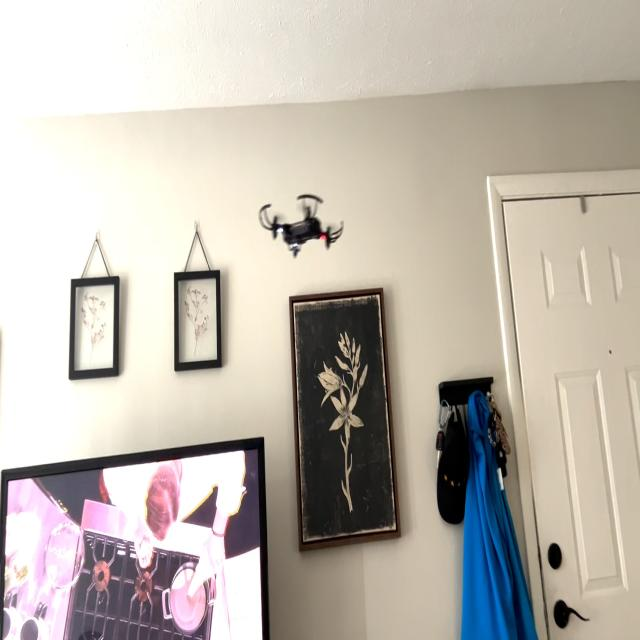drone: (256, 168, 352, 278)
